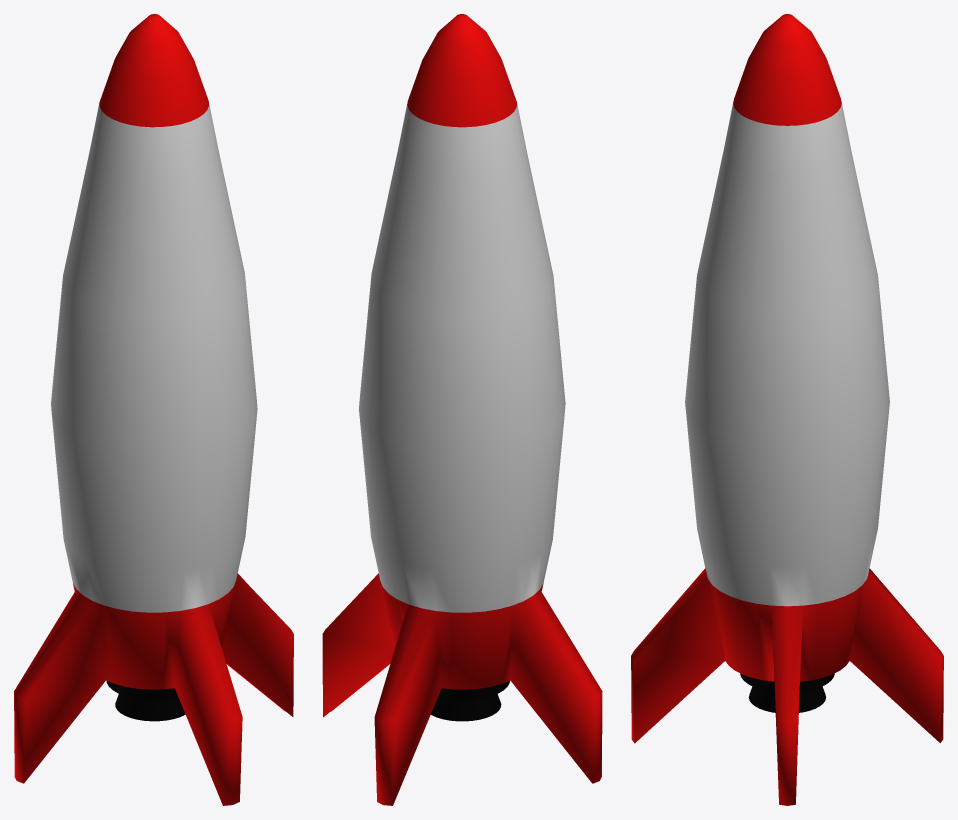
File: Rocket.fbx
The picture shows the model from 3 angles, left to right: view 1: azimuth 30°, elevation 25°; view 2: azimuth 150°, elevation 25°; view 3: azimuth 270°, elevation 25°; orthographic projection.
Visible parts, largest first — view 1: Cylinder; view 2: Cylinder; view 3: Cylinder.
Part boxes in pixels (x1,y1,x2,y2): Cylinder: (14, 14, 293, 805); Cylinder: (322, 14, 602, 805); Cylinder: (631, 14, 943, 805).
Size of the model in its own units: 222 by 563 by 221.
